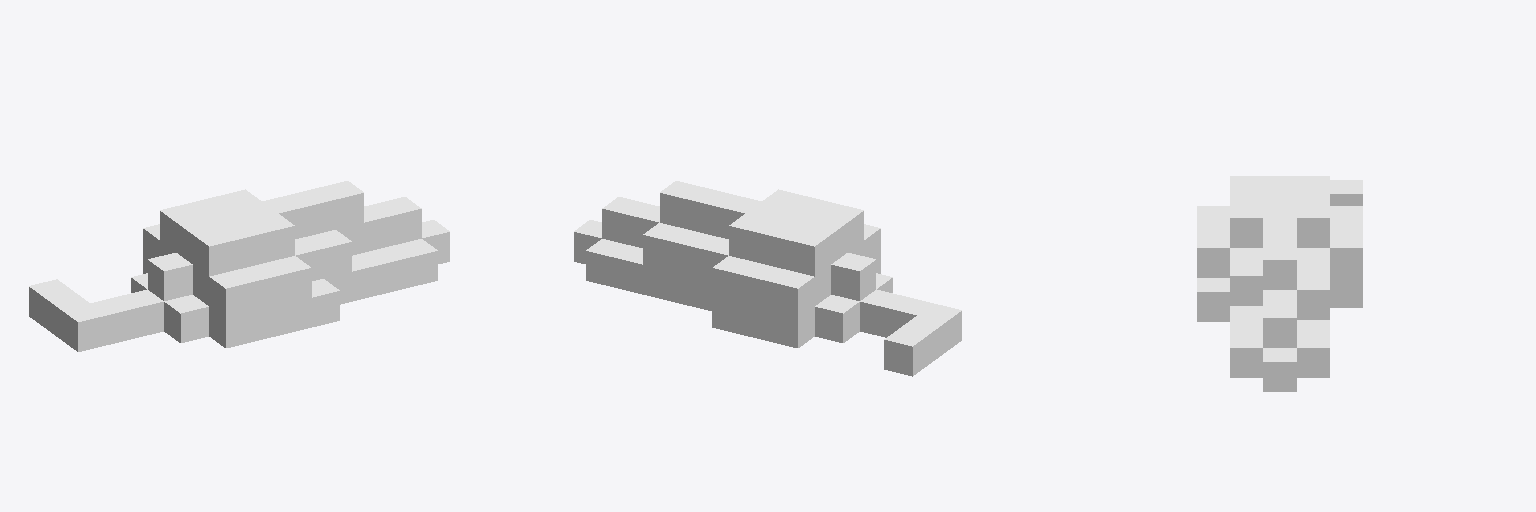
The model's file is carrot.obj.
3 renders of one model, left to right at view 1: azimuth 30°, elevation 25°; view 2: azimuth 150°, elevation 25°; view 3: azimuth 270°, elevation 25°, orthographic.
Visible parts, largest first — view 1: carrot; view 2: carrot; view 3: carrot.
Boxes of the visible parts, x1,y1,x2,y2 form: carrot: [29, 181, 449, 351]; carrot: [574, 181, 961, 376]; carrot: [1197, 176, 1362, 391].
Size of the model in its own units: 13 by 3 by 5.